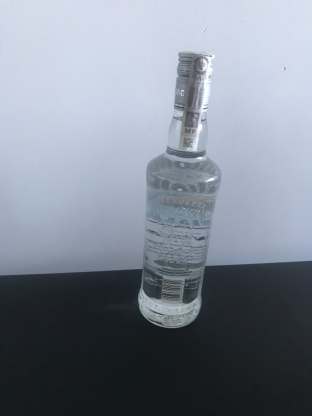nakretka: (171, 46, 216, 114)
